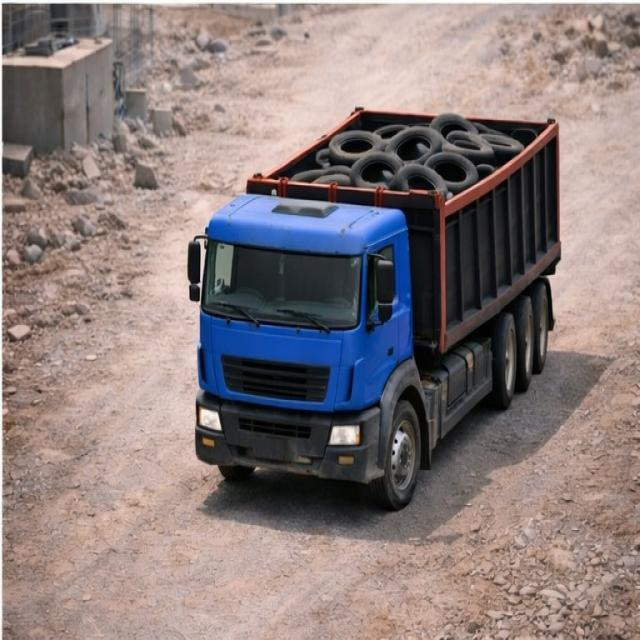trailer: (252, 107, 562, 203)
truck: (177, 88, 587, 509)
